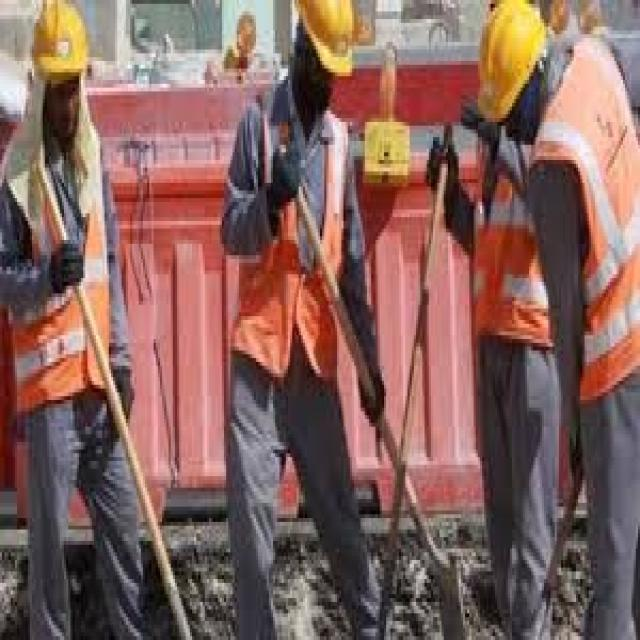Reflective-Jacket: (527, 42, 640, 404), (224, 99, 358, 396), (0, 133, 126, 434), (431, 126, 555, 370)
Safety-Helmet: (465, 0, 559, 133), (22, 0, 102, 103), (286, 0, 371, 88), (0, 54, 34, 152)
